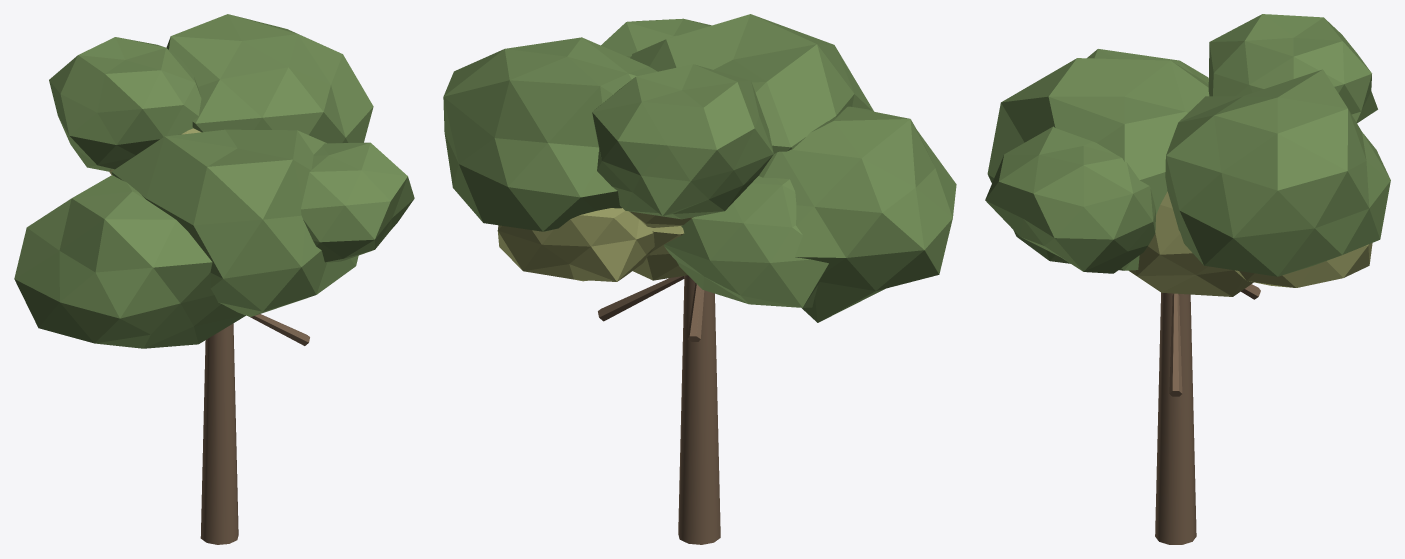
File: tree_3.glb
3 renders of one model, left to right at view 1: azimuth 30°, elevation 25°; view 2: azimuth 150°, elevation 25°; view 3: azimuth 270°, elevation 25°, orthographic. The views are drawn at different scales.
Visible parts, largest first — view 1: Leaves8, Leaves5, Leaves1, Leaves2, Leaves4, Trunk, Branch0; view 2: Leaves1, Leaves8, Leaves2, Leaves5, Leaves7, Trunk, Leaves6, Leaves4, Leaves0, Branch0, Branch1; view 3: Leaves1, Leaves5, Leaves4, Leaves2, Trunk, Leaves0, Leaves6, Branch0, Leaves8.
Part boxes in pixels (box(x1,y1,x2,y2)): Leaves8: box(14, 175, 245, 348); Leaves5: box(111, 129, 358, 316); Leaves1: box(166, 14, 373, 143); Leaves2: box(49, 37, 201, 171); Leaves4: box(300, 142, 414, 262); Trunk: box(200, 323, 238, 544); Branch0: box(249, 314, 309, 345); Leaves1: box(443, 37, 657, 231); Leaves8: box(759, 106, 956, 322); Leaves2: box(592, 64, 773, 219); Leaves5: box(630, 14, 873, 153); Leaves7: box(664, 176, 828, 307); Trunk: box(678, 275, 720, 544); Leaves6: box(497, 208, 654, 281); Leaves4: box(601, 18, 711, 57); Leaves0: box(633, 226, 687, 280); Branch0: box(598, 276, 684, 321); Branch1: box(687, 283, 704, 341); Leaves1: box(1165, 69, 1390, 276); Leaves5: box(987, 58, 1209, 270); Leaves4: box(985, 126, 1155, 273); Leaves2: box(1208, 14, 1377, 123); Trunk: box(1155, 292, 1196, 544); Leaves0: box(1129, 191, 1253, 296); Leaves6: box(1235, 243, 1372, 287); Branch0: box(1169, 293, 1182, 396); Leaves8: box(1087, 49, 1208, 84).
Bounding box in the file's own units: 5.04 × 5.66 × 4.31.
